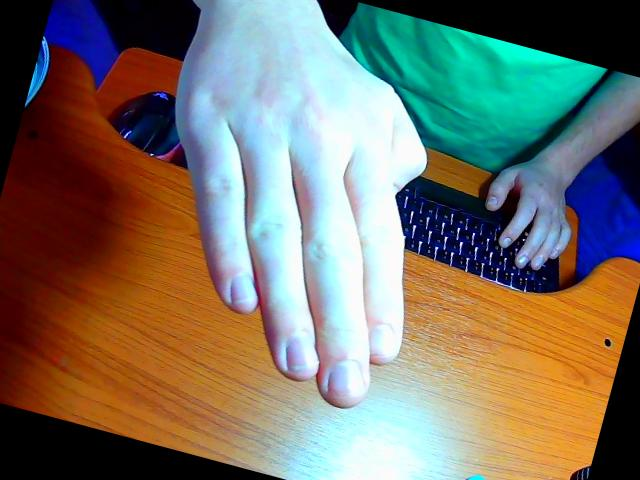paper: (485, 73, 640, 270)
